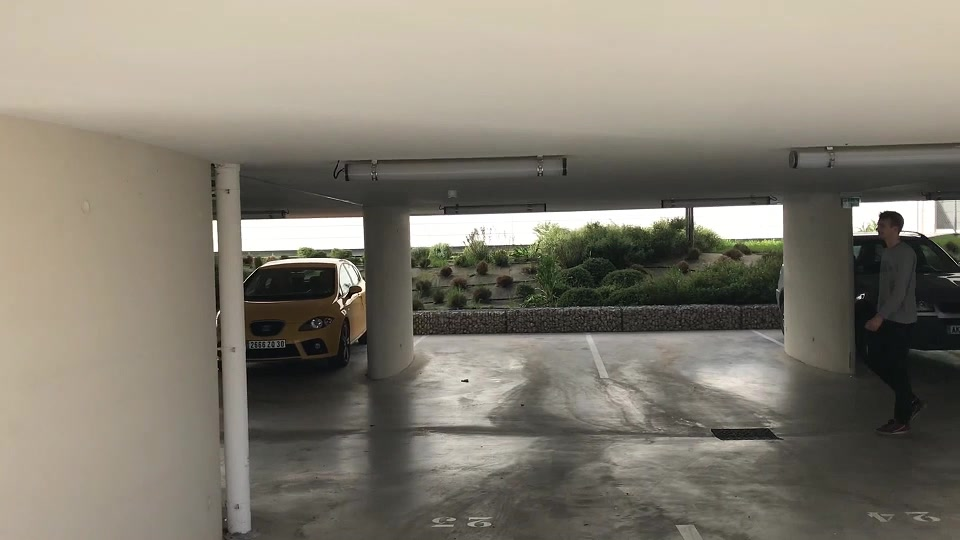jugador: (844, 204, 931, 441)
